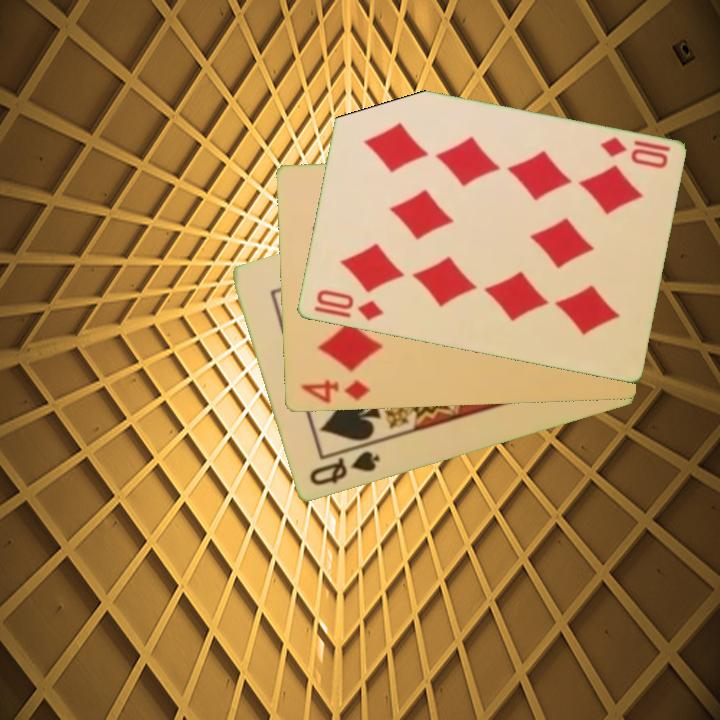10d: (596, 134, 673, 172), (312, 286, 386, 324)
4d: (296, 376, 373, 407)
Qs: (305, 448, 383, 489)
